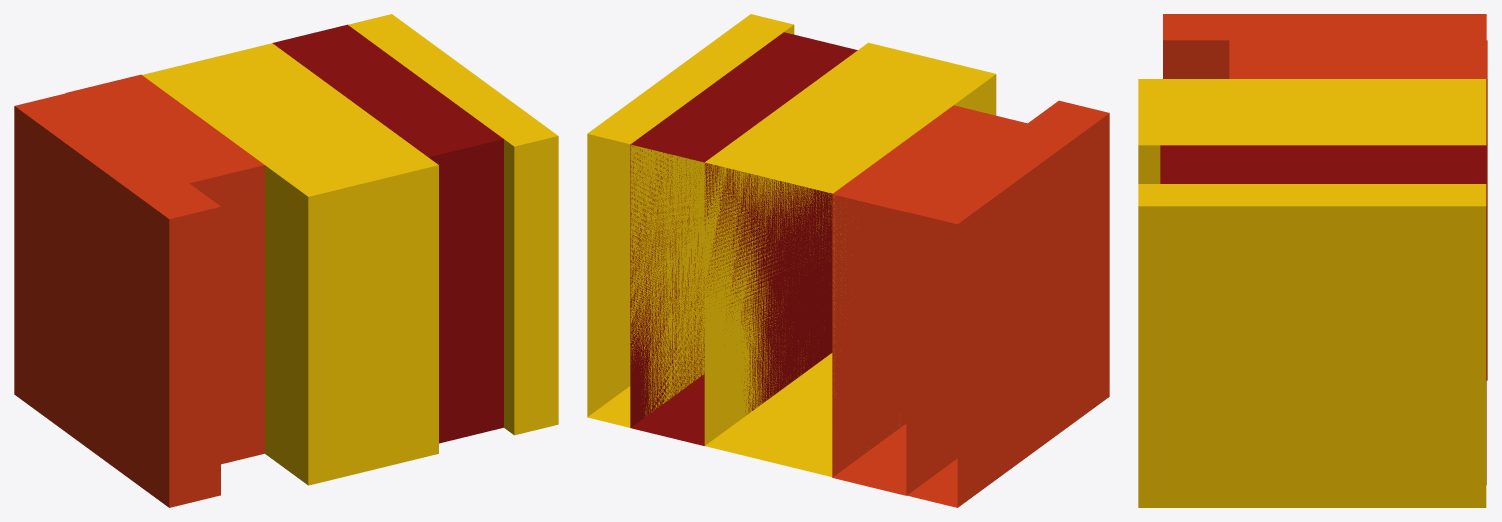
The model's file is RG_Dungeon_Books-01.fbx.
3 views of the same model, side by side, from view 1: azimuth 30°, elevation 25°; view 2: azimuth 150°, elevation 25°; view 3: azimuth 270°, elevation 25° (orthographic). The views are drawn at different scales.
Parts seen in each view (by area): view 1: RG_Dungeon_Books-01; view 2: RG_Dungeon_Books-01; view 3: RG_Dungeon_Books-01.
Part boxes in pixels (x1,y1,x2,y2): RG_Dungeon_Books-01: [14, 14, 558, 507]; RG_Dungeon_Books-01: [587, 14, 1109, 507]; RG_Dungeon_Books-01: [1138, 14, 1487, 507].
Size of the model in its own units: 2.23 by 1.63 by 1.71.
